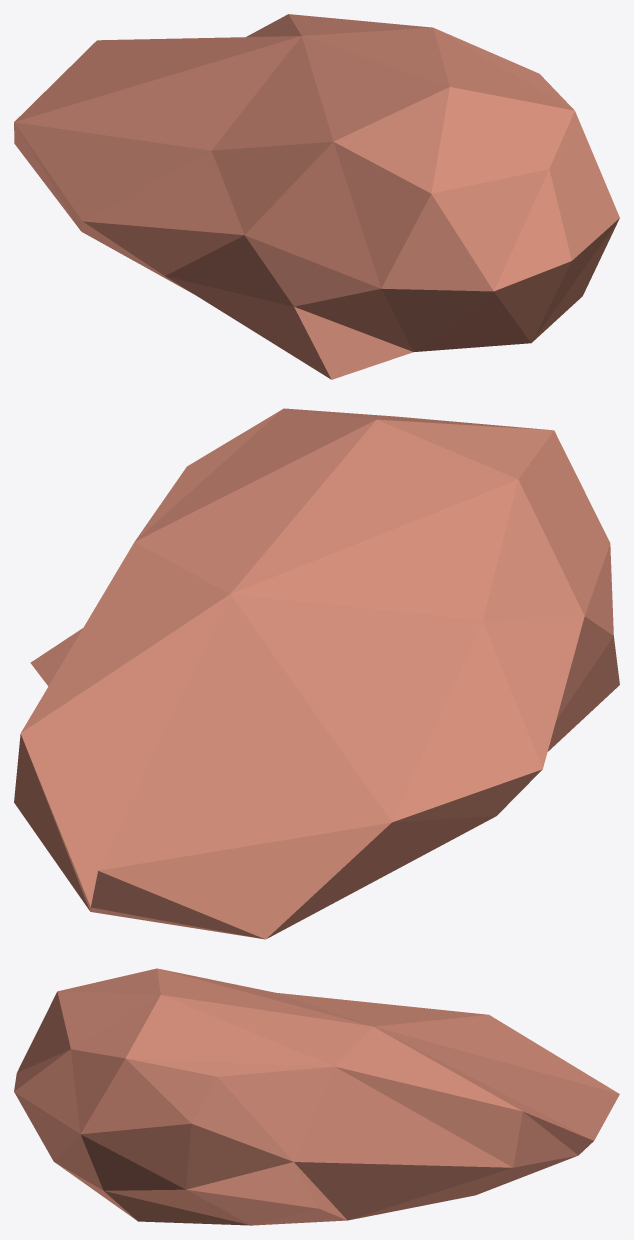
The model's file is stone_013.fbx.
The picture shows the model from 3 angles, top to bottom: view 1: azimuth 30°, elevation 25°; view 2: azimuth 150°, elevation 25°; view 3: azimuth 270°, elevation 25°; orthographic projection. The views are drawn at different scales.
Parts seen in each view (by area): view 1: stone_013; view 2: stone_013; view 3: stone_013.
Part boxes in pixels (x1,y1,x2,y2): stone_013: (14,14,619,379); stone_013: (14,408,619,939); stone_013: (14,968,619,1225).
Bounding box in the file's own units: 348 × 524 × 206.
